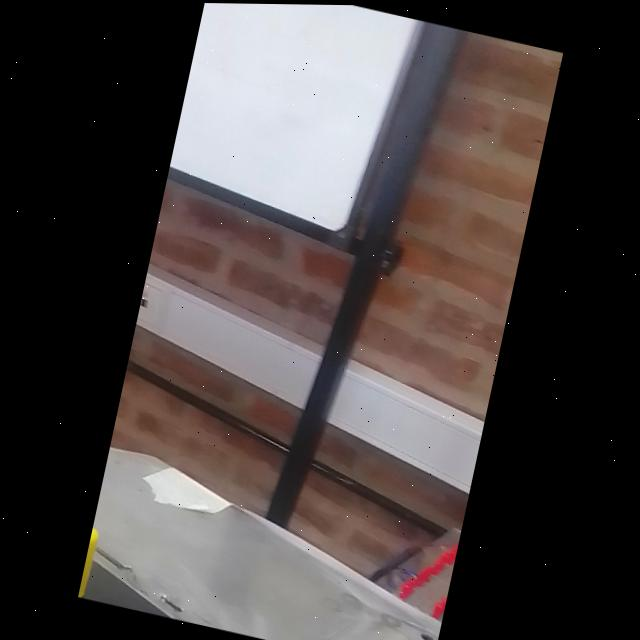yellowBox: (78, 468, 141, 605)
